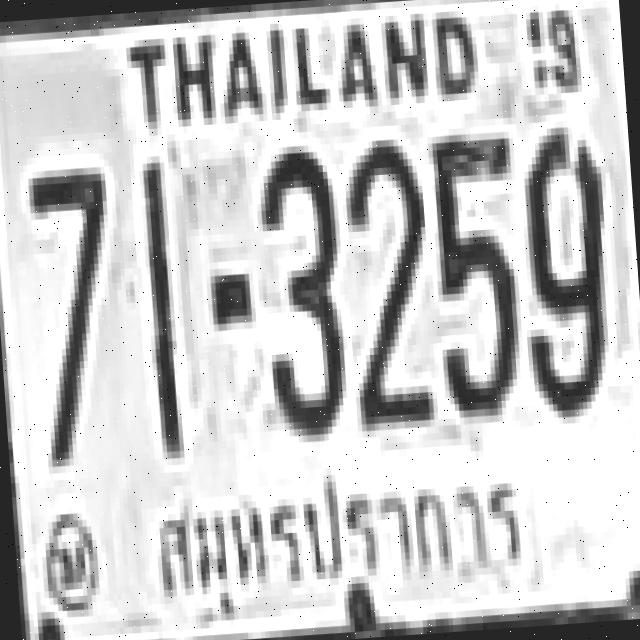1: (138, 158, 180, 456)
2: (338, 134, 434, 428)
3: (250, 140, 347, 434)
5: (427, 128, 523, 414)
7: (22, 160, 120, 460)
9: (512, 118, 613, 412)
SamutPrakan: (137, 452, 543, 640)
